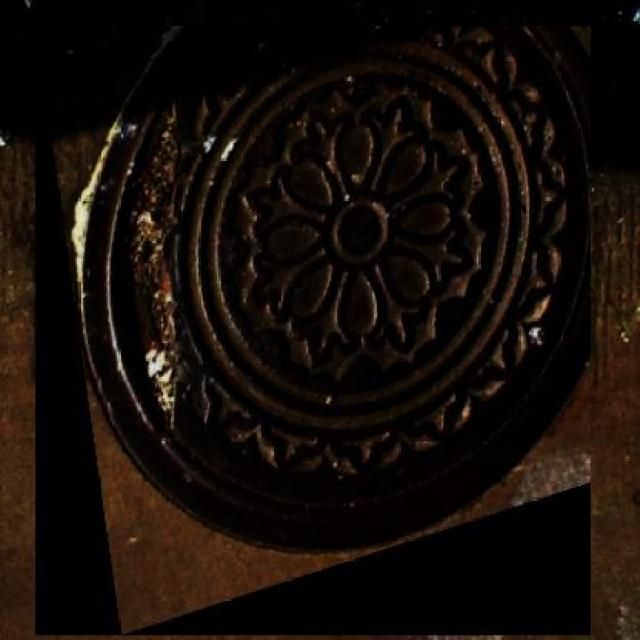Manhole: (35, 27, 591, 636)
